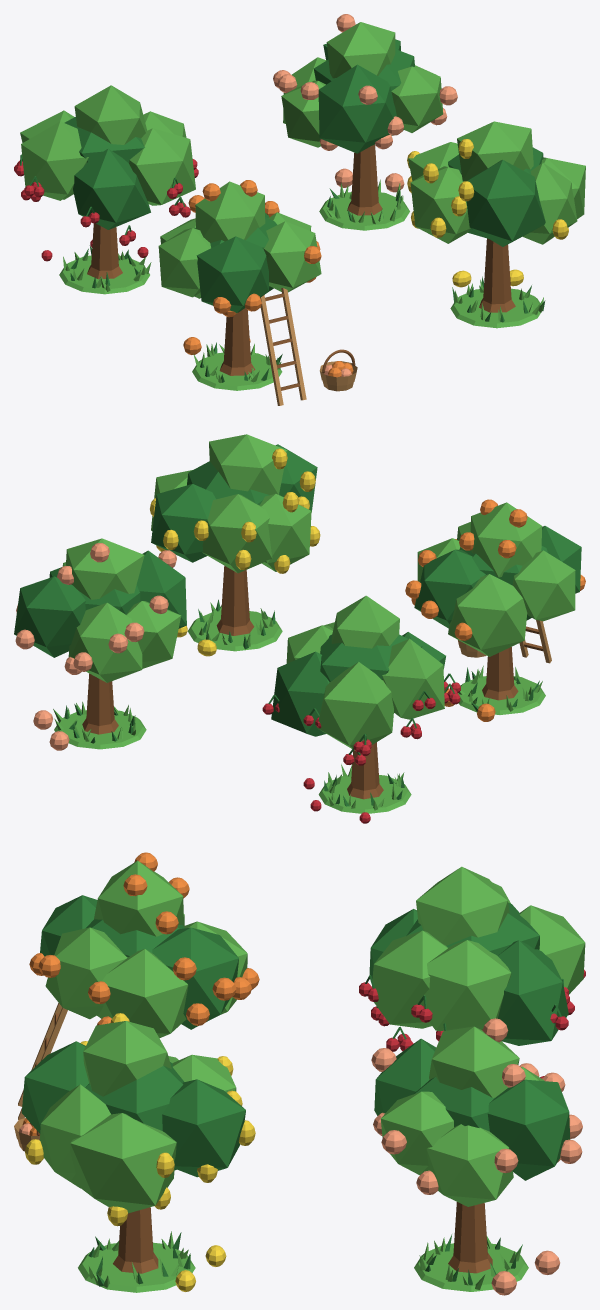
The model's file is low-poly-fruit-trees.glb.
The picture shows the model from 3 angles, top to bottom: view 1: azimuth 30°, elevation 25°; view 2: azimuth 150°, elevation 25°; view 3: azimuth 270°, elevation 25°; orthographic projection. The views are drawn at different scales.
Visible parts, largest first — view 1: Tree_Cherry, Tree_Lemon, Tree_Peach, Tree_Orange, Ladder, Basket_Fruit; view 2: Tree_Cherry, Tree_Peach, Tree_Lemon, Tree_Orange, Ladder; view 3: Tree_Lemon, Tree_Peach, Tree_Cherry, Tree_Orange, Ladder.
Part boxes in pixels (x1,y1,x2,y2): Tree_Cherry: (14, 85, 198, 294); Tree_Lemon: (407, 121, 585, 328); Tree_Peach: (273, 14, 457, 230); Tree_Orange: (158, 180, 321, 390); Ladder: (260, 288, 306, 405); Basket_Fruit: (319, 349, 357, 391); Tree_Cherry: (262, 595, 460, 823); Tree_Peach: (14, 538, 186, 750); Tree_Lemon: (150, 434, 320, 656); Tree_Orange: (405, 499, 585, 721); Ladder: (519, 620, 551, 663); Tree_Lemon: (21, 1013, 255, 1292); Tree_Peach: (371, 1018, 582, 1295); Tree_Cherry: (359, 866, 585, 1078); Tree_Orange: (29, 852, 259, 1038); Ladder: (18, 1003, 67, 1119).
Bounding box in the file's own units: 28.08 × 12 × 25.63.
